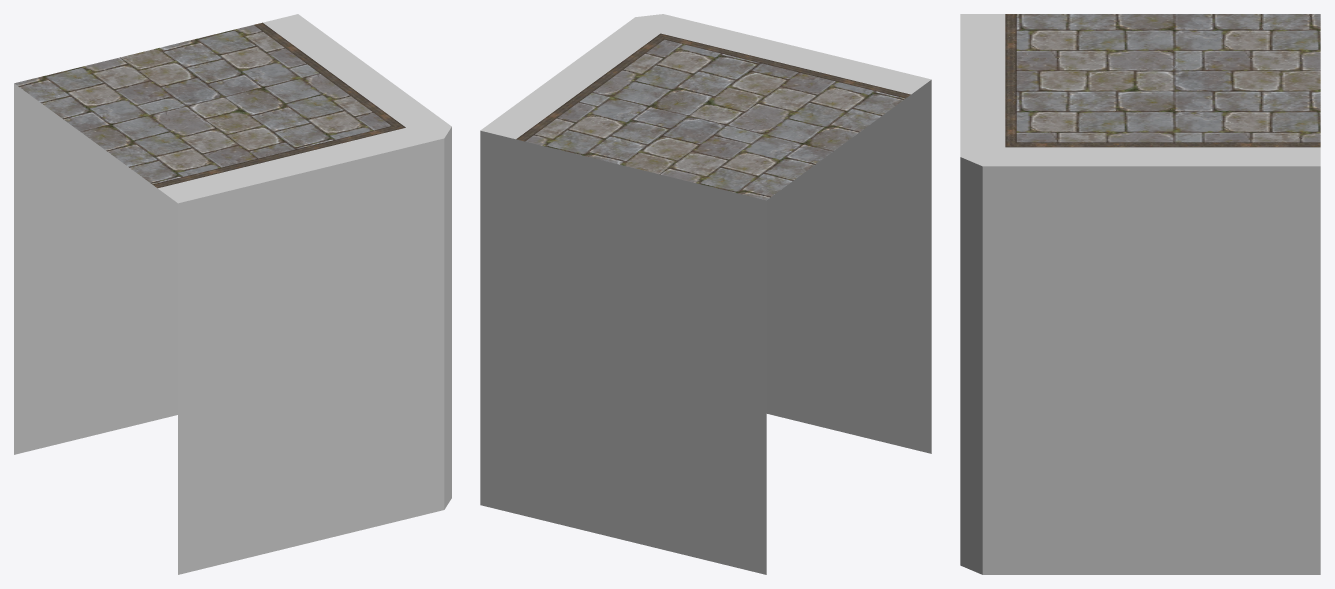
3 renders of one model, left to right at view 1: azimuth 30°, elevation 25°; view 2: azimuth 150°, elevation 25°; view 3: azimuth 270°, elevation 25°, orthographic. The views are drawn at different scales.
Parts seen in each view (by area): view 1: SM_Dowdun_Walkway_Corner_02_LOD0; view 2: SM_Dowdun_Walkway_Corner_02_LOD0; view 3: SM_Dowdun_Walkway_Corner_02_LOD0.
Boxes of the visible parts, bbox=[...] form: SM_Dowdun_Walkway_Corner_02_LOD0: bbox=[14, 14, 451, 574]; SM_Dowdun_Walkway_Corner_02_LOD0: bbox=[480, 14, 931, 574]; SM_Dowdun_Walkway_Corner_02_LOD0: bbox=[960, 14, 1320, 574].
Size of the model in its own units: 8 by 10 by 8.
3 materials, 2 textured.
